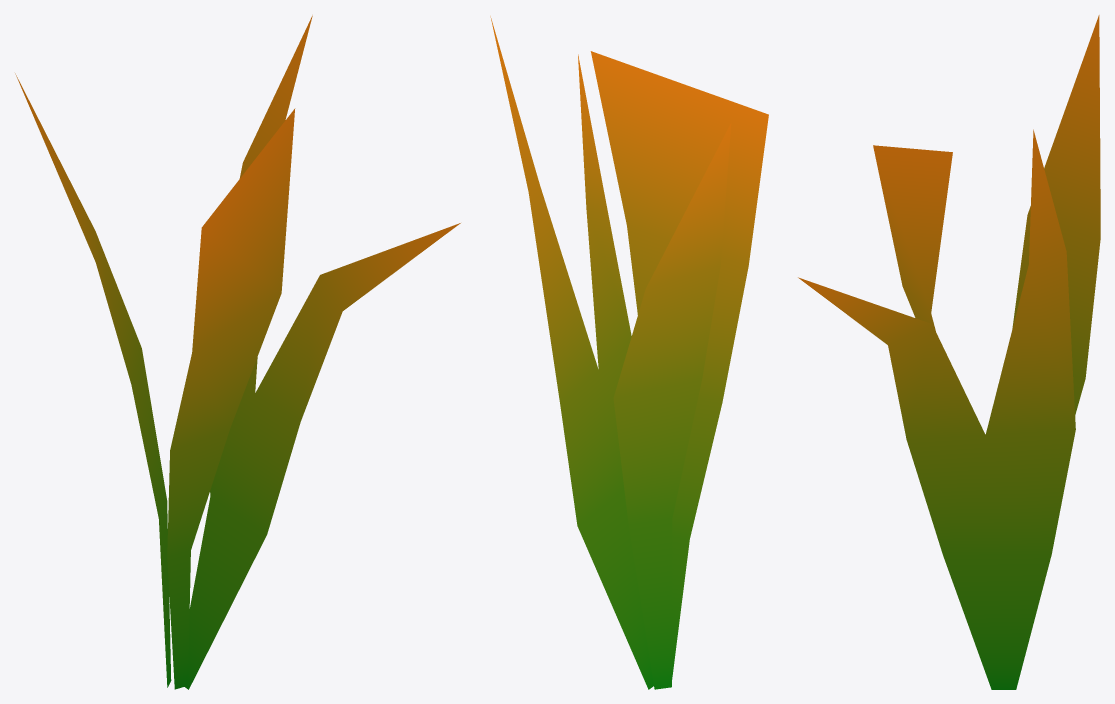
The model's file is Common Eelgrass_LOD2_Var7_sjglk.fbx.
3 views of the same model, side by side, from view 1: azimuth 30°, elevation 25°; view 2: azimuth 150°, elevation 25°; view 3: azimuth 270°, elevation 25° (orthographic). The views are drawn at different scales.
Visible parts, largest first — view 1: _fbe7_Var7_LOD2; view 2: _fbe7_Var7_LOD2; view 3: _fbe7_Var7_LOD2.
Boxes of the visible parts, x1,y1,x2,y2 form: _fbe7_Var7_LOD2: (15,15,460,689); _fbe7_Var7_LOD2: (490,16,768,689); _fbe7_Var7_LOD2: (798,15,1100,689).
Size of the model in its own units: 34.43 by 69.03 by 30.04.
